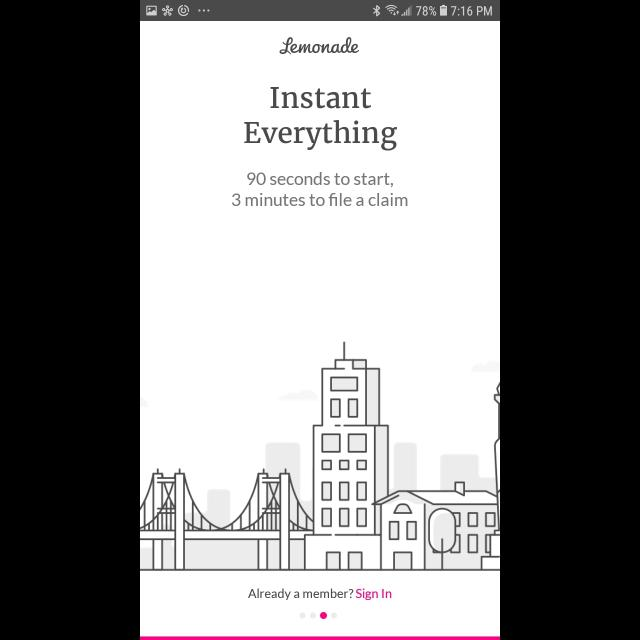image: (140, 342, 500, 570), (280, 37, 360, 54)
pageindicator: (299, 612, 337, 620)
text: (245, 87, 398, 151), (232, 172, 408, 208), (248, 588, 392, 600)
uppertaskbar: (140, 1, 500, 22)
